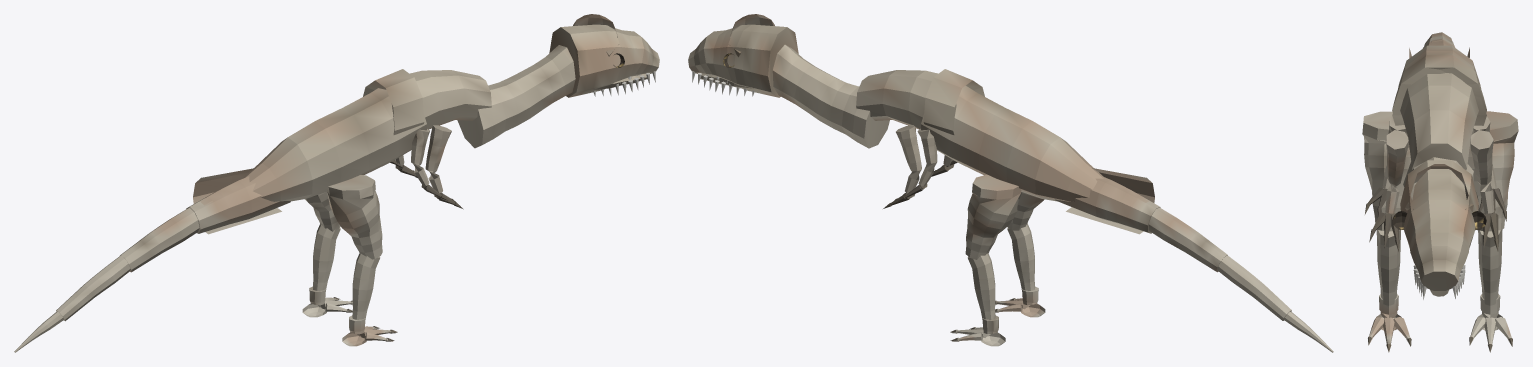
3 renders of one model, left to right at view 1: azimuth 30°, elevation 25°; view 2: azimuth 150°, elevation 25°; view 3: azimuth 270°, elevation 25°, orthographic. The views are drawn at different scales.
Visible parts, largest first — view 1: bodym, neckm, headm, thighmR, tailm1, tailm2, tailm3, shinmR, shinmL, hipm, armmR, thighmL (+3 smaller); view 2: bodym, neckm, headm, thighmL, tailm1, tailm2, shinmL, tailm3, shinmR, hipm, armmL, arm2mL (+3 smaller); view 3: bodym, headm, thighmL, thighmR, shinmL, shinmR, armmL, armmR, footmR, footmL, armclawR, eyesm (+10 smaller).
Boxes of the visible parts, <box> form: bodym: <box>242,69,491,201</box>; neckm: <box>457,45,575,148</box>; headm: <box>549,24,659,97</box>; thighmR: <box>327,175,382,259</box>; tailm1: <box>186,176,290,233</box>; tailm2: <box>120,196,212,272</box>; tailm3: <box>56,255,130,321</box>; shinmR: <box>349,253,380,333</box>; shinmL: <box>309,224,340,305</box>; hipm: <box>193,168,281,234</box>; armmR: <box>425,125,451,193</box>; thighmL: <box>305,192,340,231</box>; bodym: <box>856,69,1103,201</box>; neckm: <box>772,44,889,148</box>; headm: <box>688,24,798,97</box>; thighmL: <box>965,174,1021,259</box>; tailm1: <box>1055,176,1160,233</box>; tailm2: <box>1133,196,1227,272</box>; shinmL: <box>967,253,998,333</box>; tailm3: <box>1217,255,1291,320</box>; shinmR: <box>1007,223,1038,305</box>; hipm: <box>1066,168,1154,234</box>; armmL: <box>896,125,921,193</box>; arm2mL: <box>917,128,937,186</box>; bodym: <box>1392,45,1486,169</box>; headm: <box>1400,160,1478,290</box>; thighmL: <box>1467,111,1518,231</box>; thighmR: <box>1362,111,1410,231</box>; shinmL: <box>1478,229,1502,317</box>; shinmR: <box>1376,229,1400,317</box>; armmL: <box>1471,130,1494,213</box>; armmR: <box>1385,130,1408,213</box>; footmR: <box>1369,314,1410,349</box>; footmL: <box>1470,314,1512,350</box>; armclawR: <box>1369,212,1399,252</box>; eyesm: <box>1392,211,1486,230</box>.
Size of the model in its own units: 12.36 by 4.62 by 2.03.
